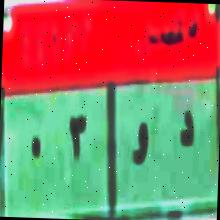0: (28, 128, 42, 165)
3: (69, 114, 88, 168)
daal: (176, 107, 196, 152)
waw: (130, 120, 150, 172)
